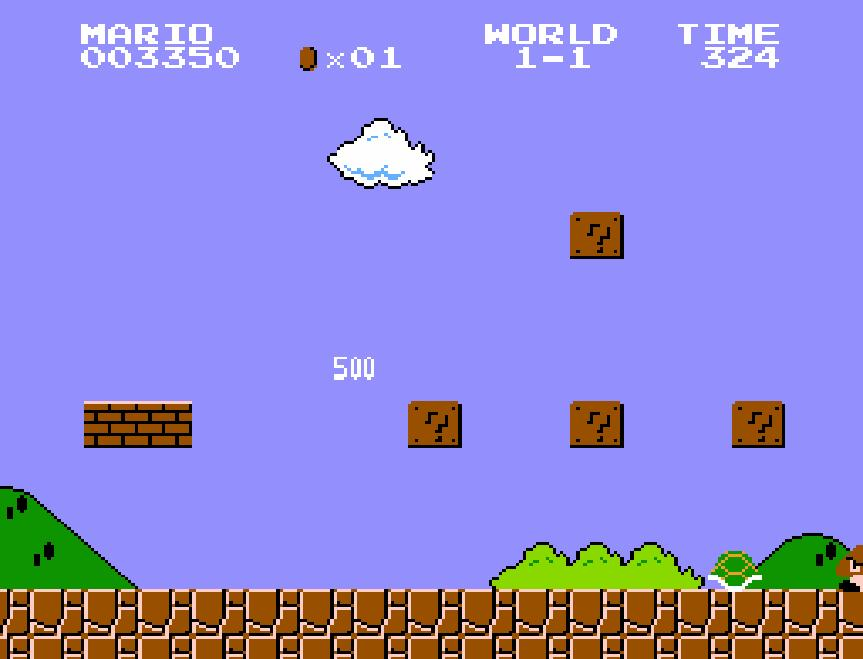little_mario: (355, 500, 413, 550)
